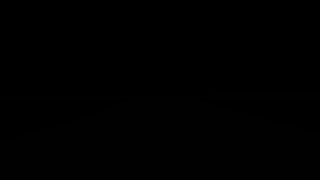turn_left: (185, 73, 193, 82)
